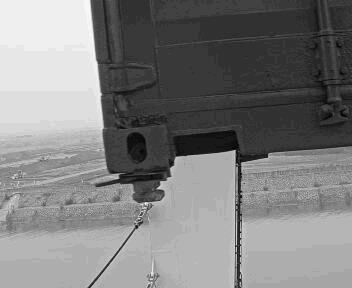twist_lock_1: (152, 158, 218, 209)
